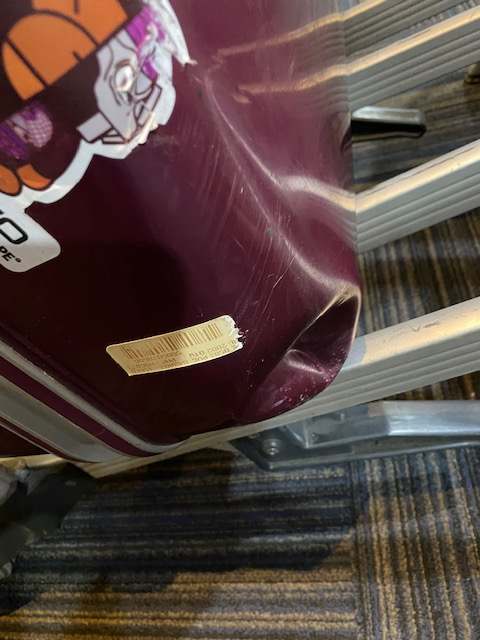rupture: (249, 288, 360, 400)
